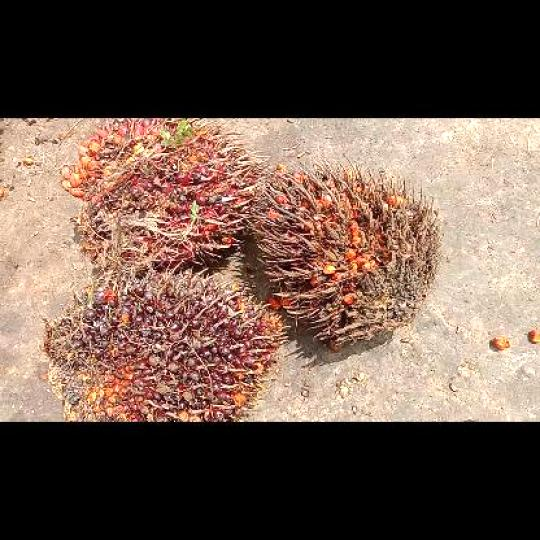kurang masak: (41, 277, 284, 421)
masak: (62, 118, 258, 271)
terlalu masak: (256, 163, 437, 348)
